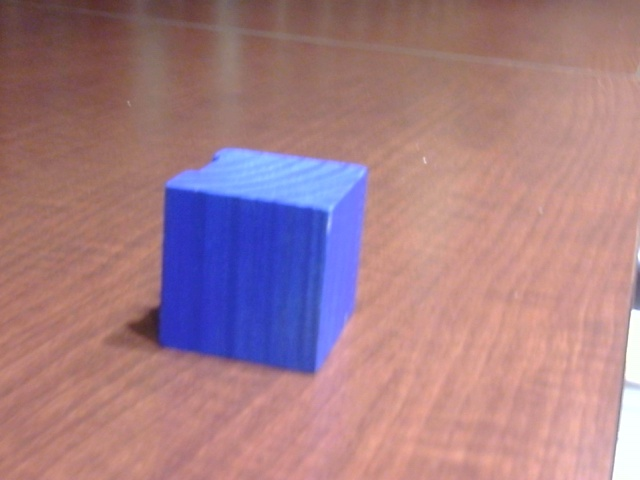BlueBlock: (161, 149, 366, 374)
